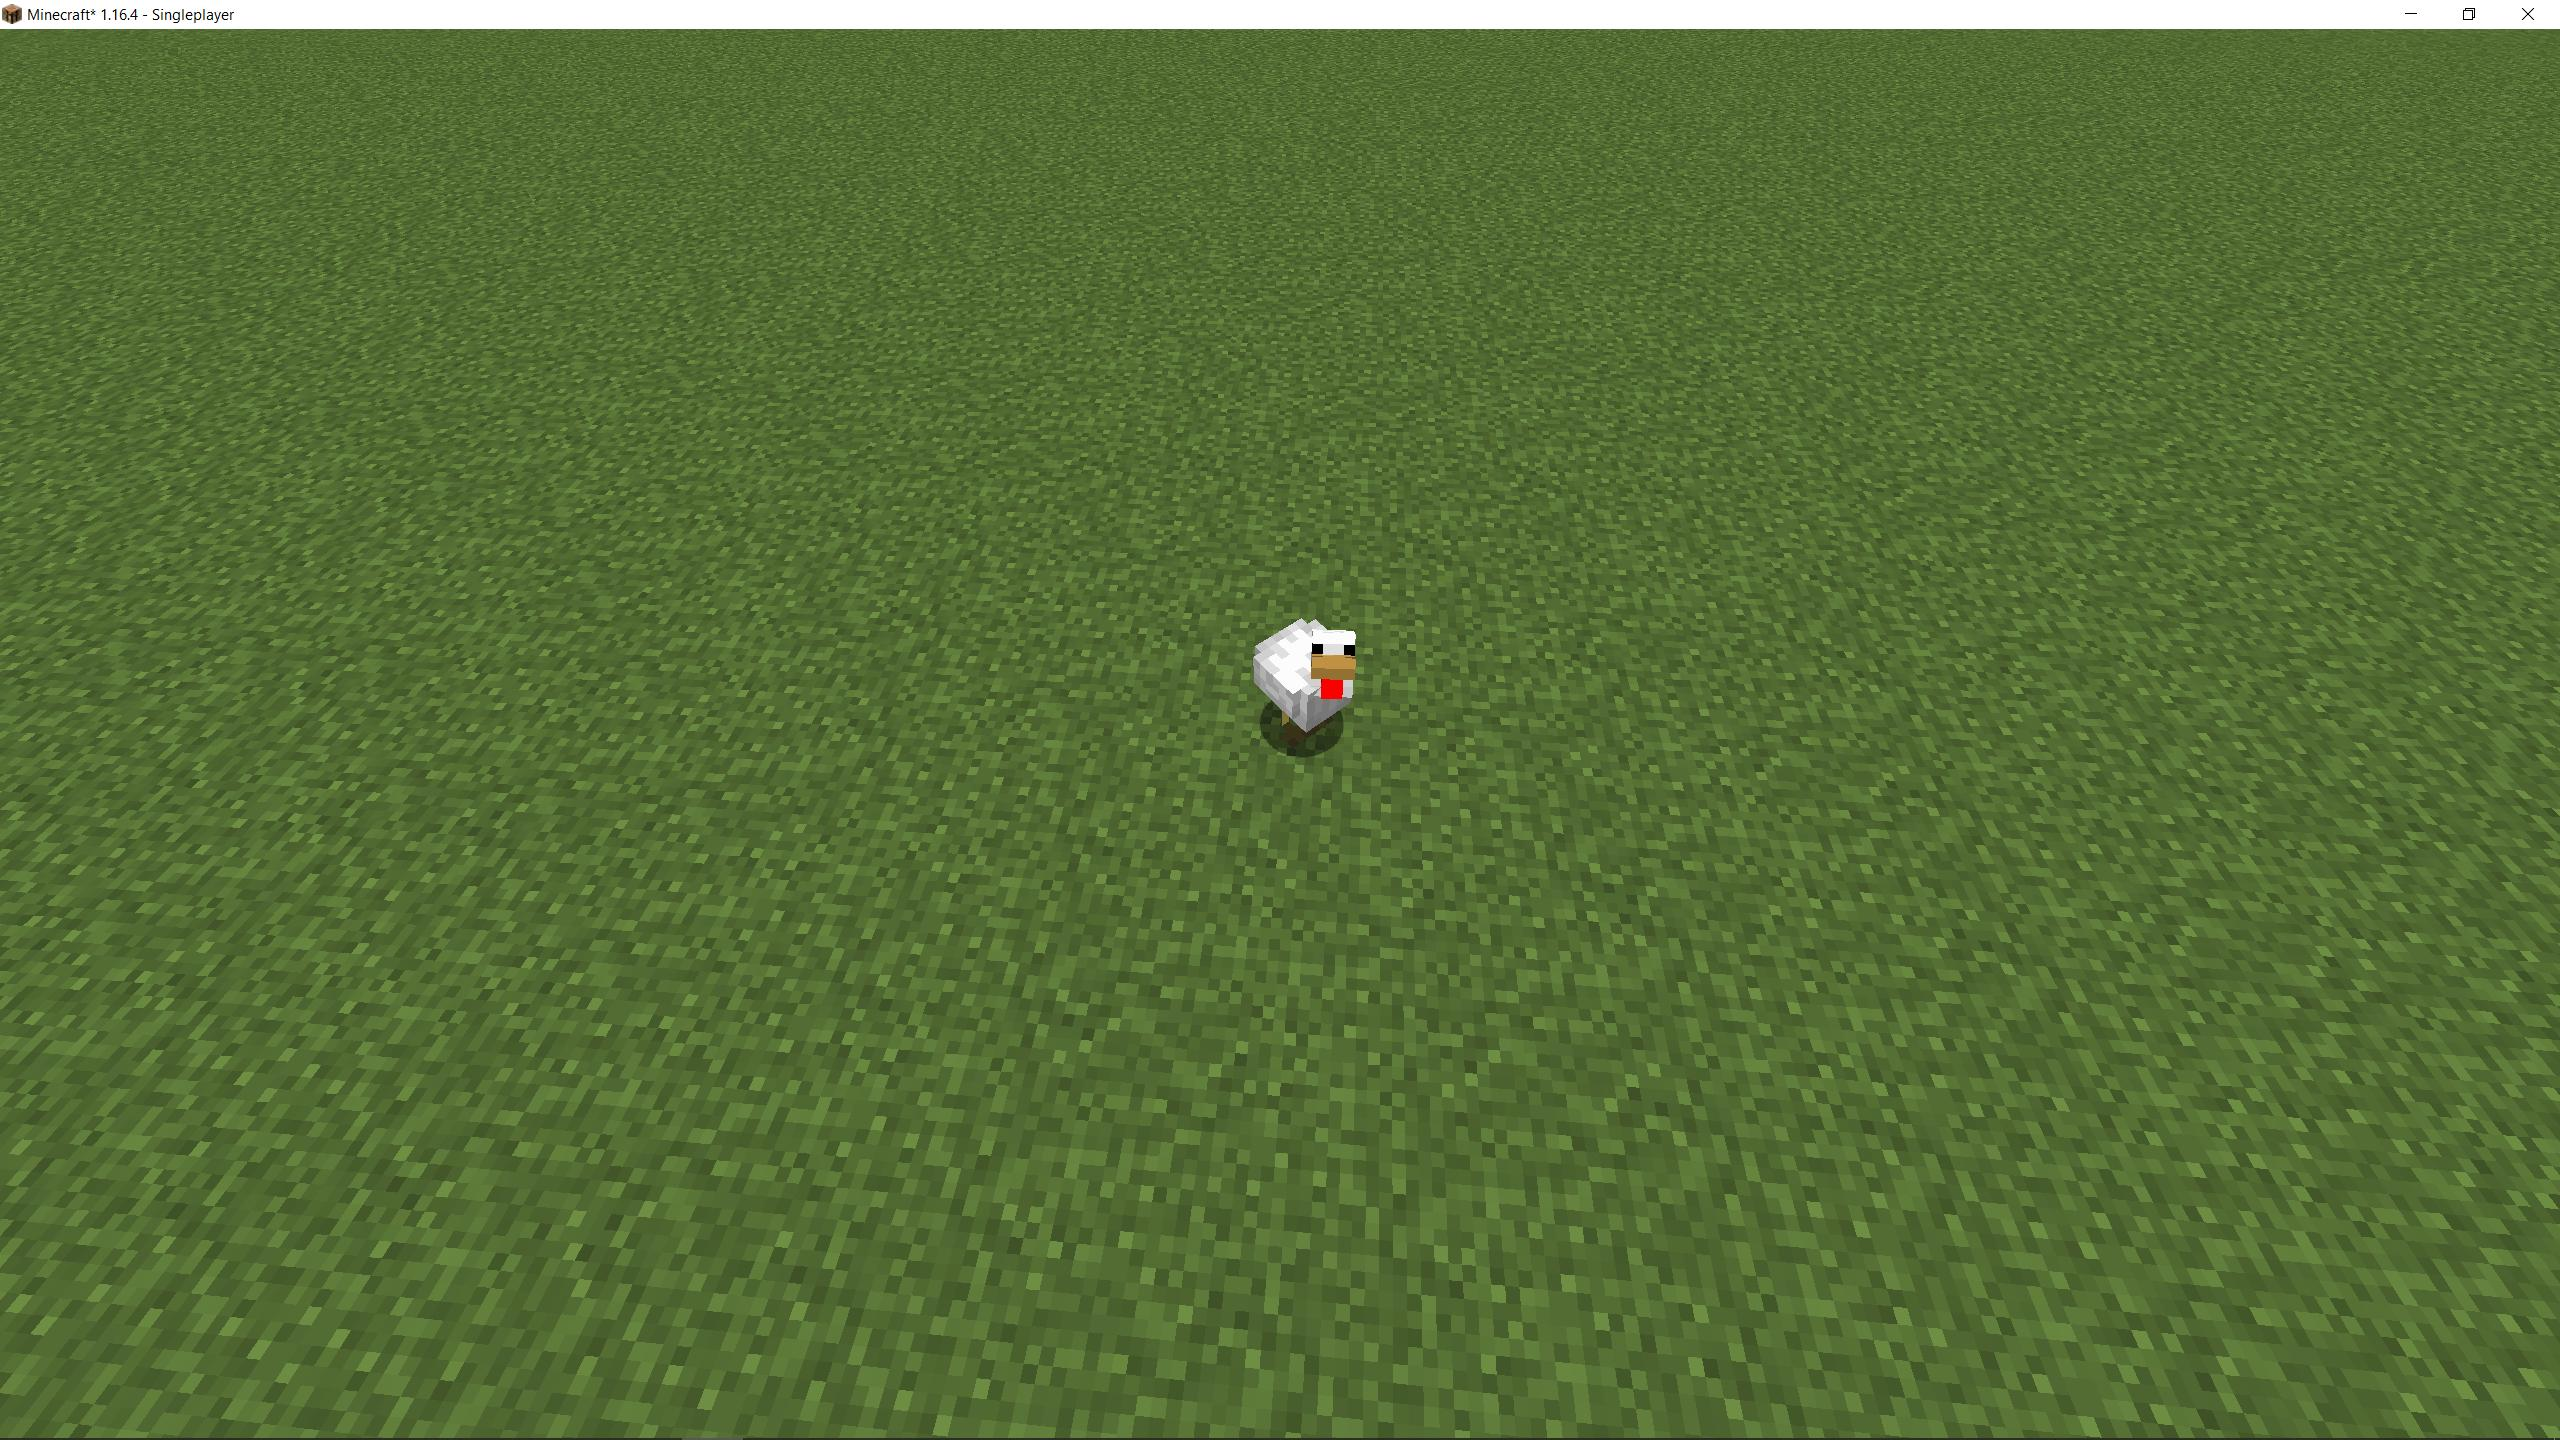chicken: (1241, 612, 1364, 760)
